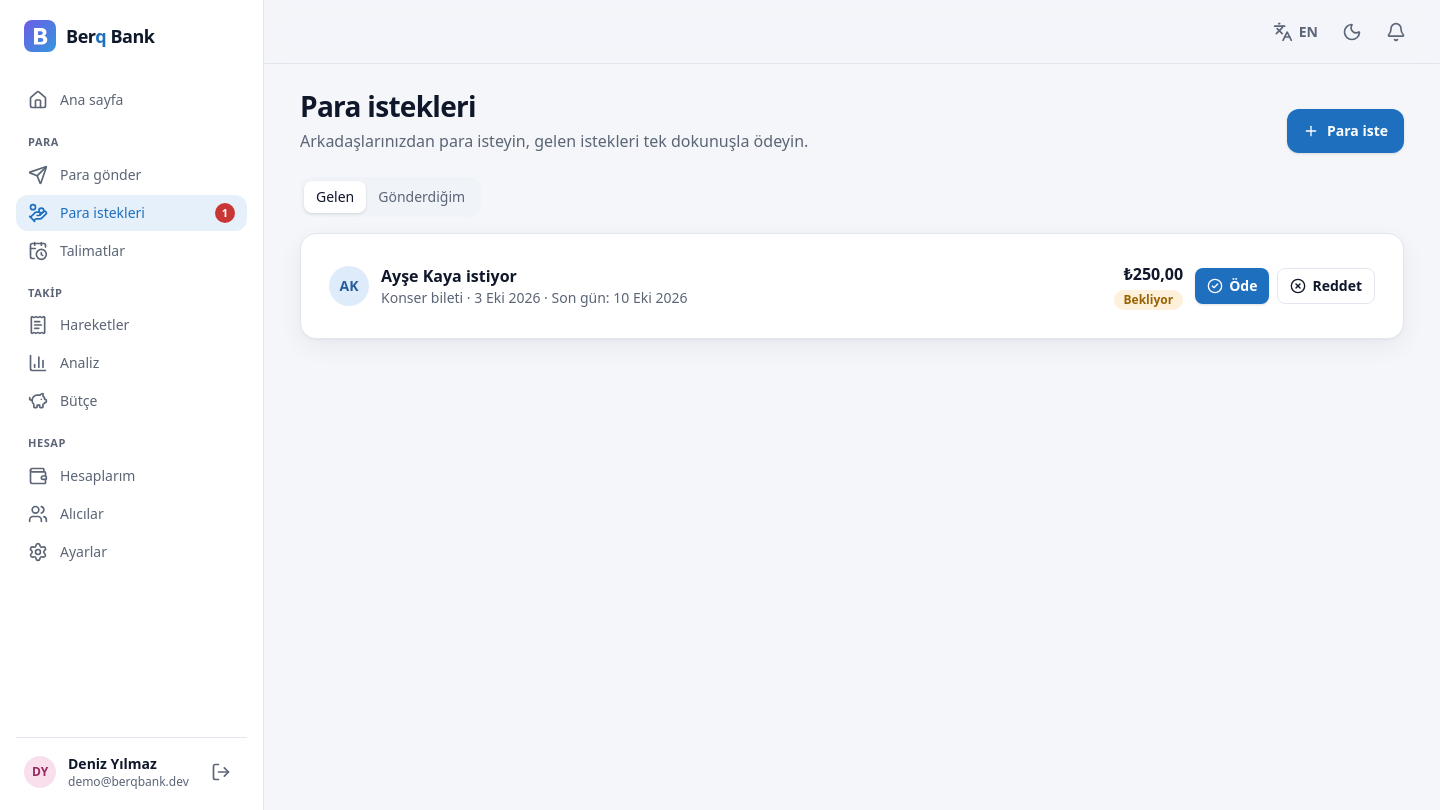
Test: money requests › pays an incoming request from an account in the same currency
The width and height of the screenshot is (1440, 810).
Expected: the text "₺250,00" is shown, [1114, 262, 1183, 286]
Expected: the text "Bekliyor" is shown, [1114, 290, 1183, 310]
Click the button "Öde" at (1232, 286), box [1195, 268, 1269, 304]
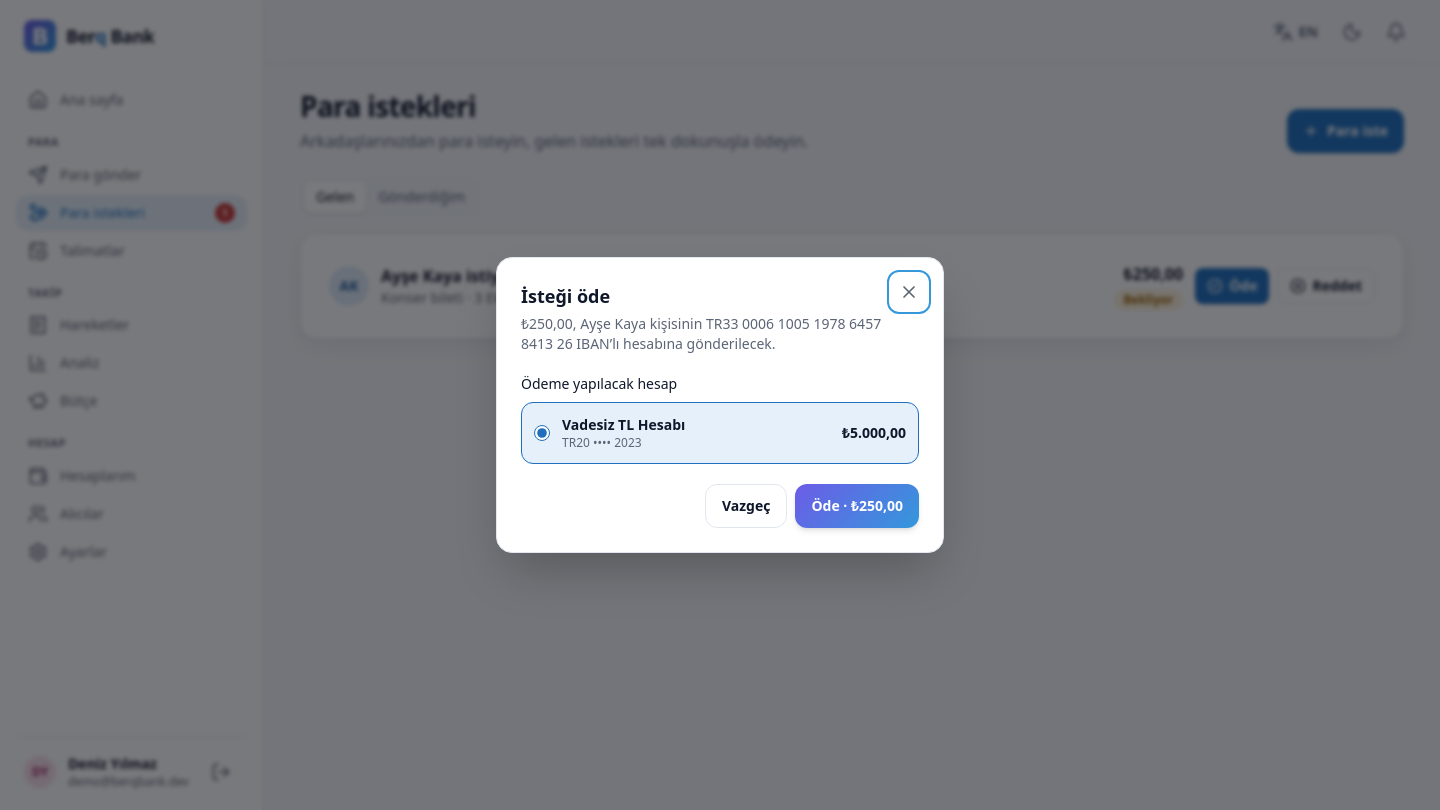
Result: the radio button labelled "Vadesiz TL Hesabı TR20 •••• 2023 ₺5.000,00" is checked at [534, 425, 550, 441]
Click the button "Öde · ₺250,00" at (857, 506), box [795, 484, 919, 528]
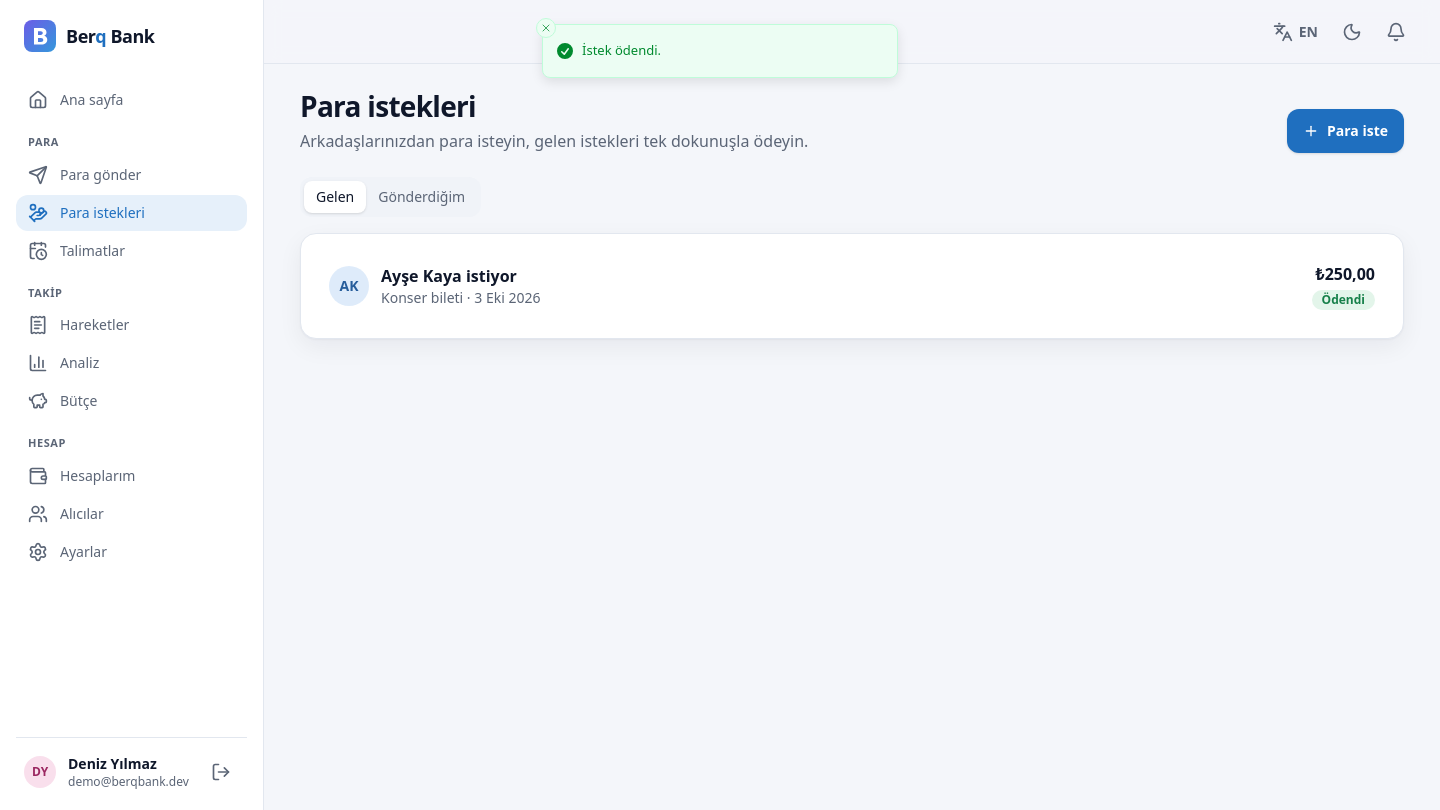
Result: the text "Ödendi" is shown at [1312, 290, 1375, 310]
